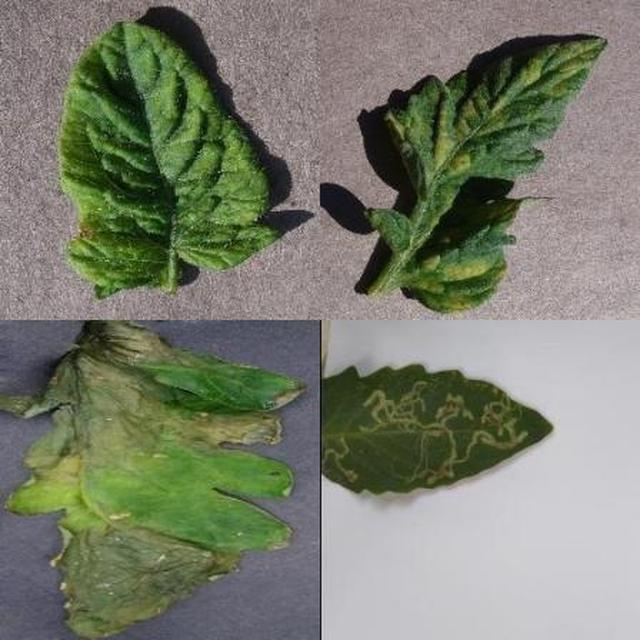Yellow Leaf Curl Virus: (219, 190, 640, 640)
